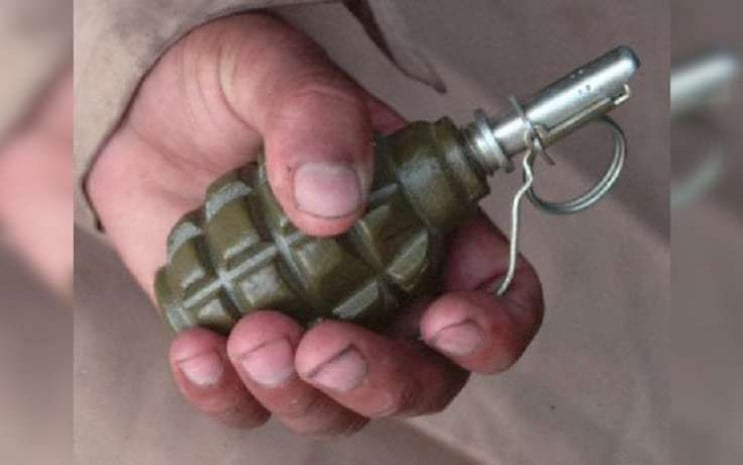F1: (152, 44, 642, 374)
